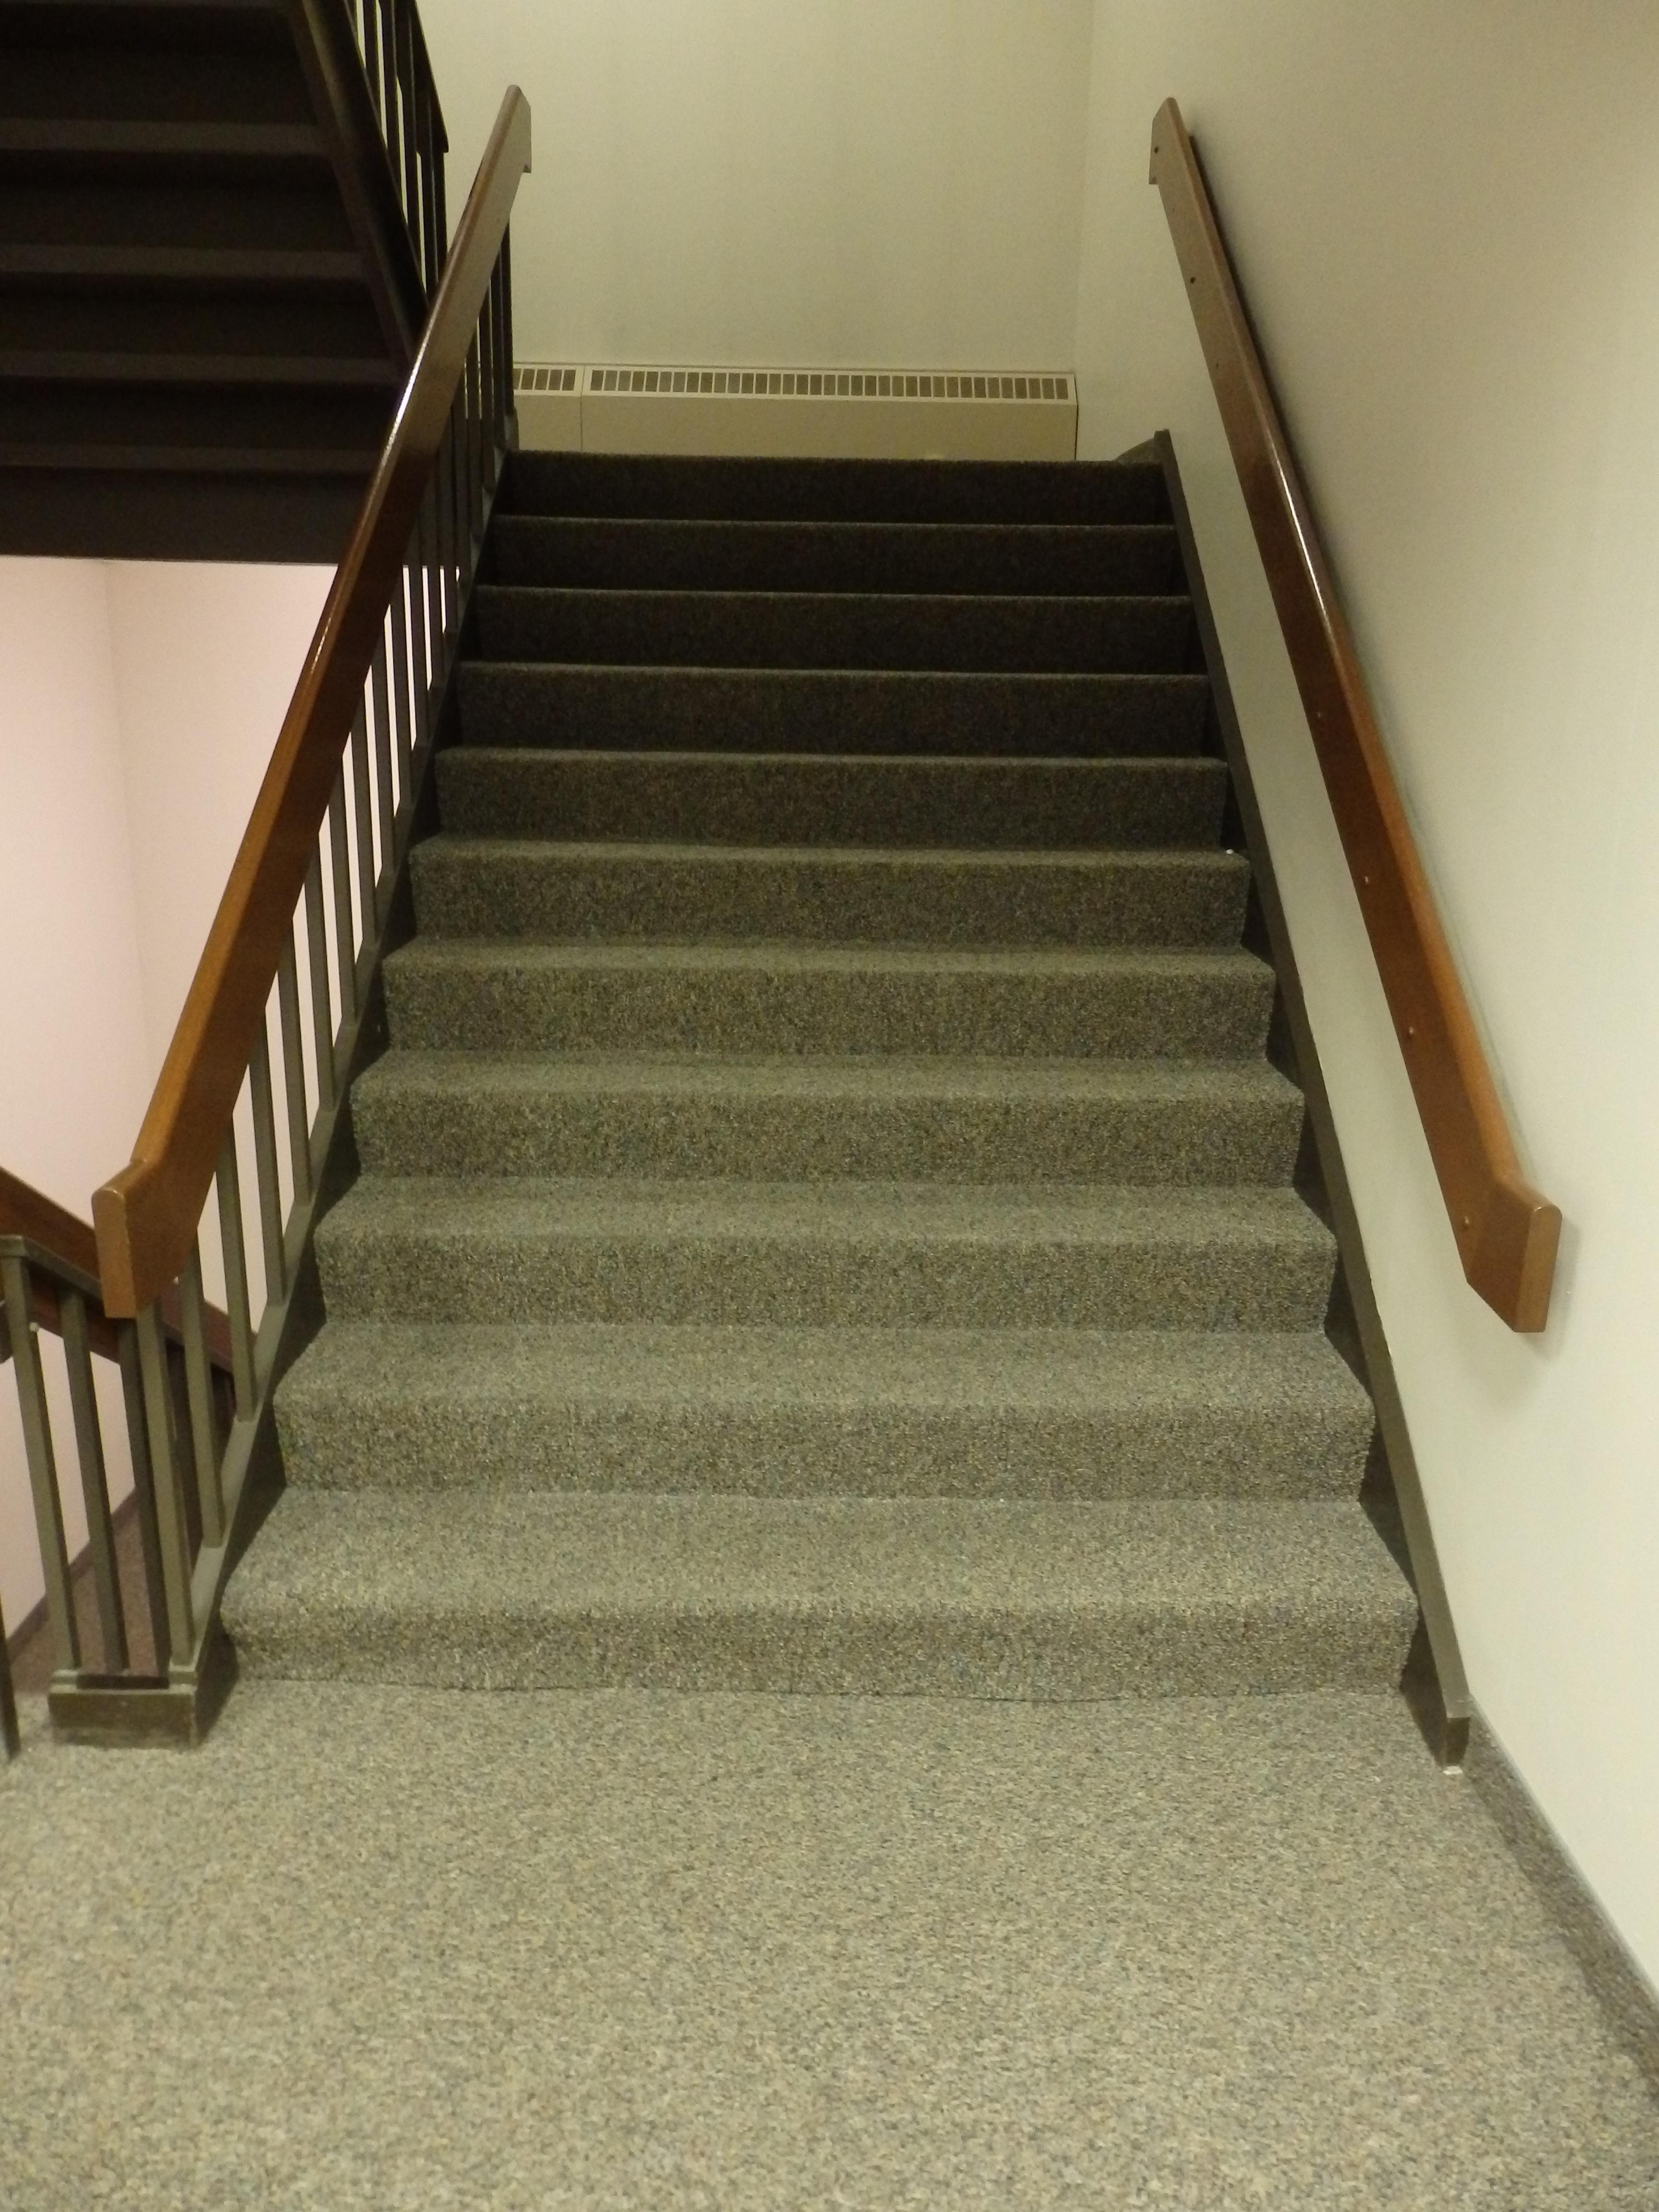stairs_up: (371, 409, 1340, 1712)
